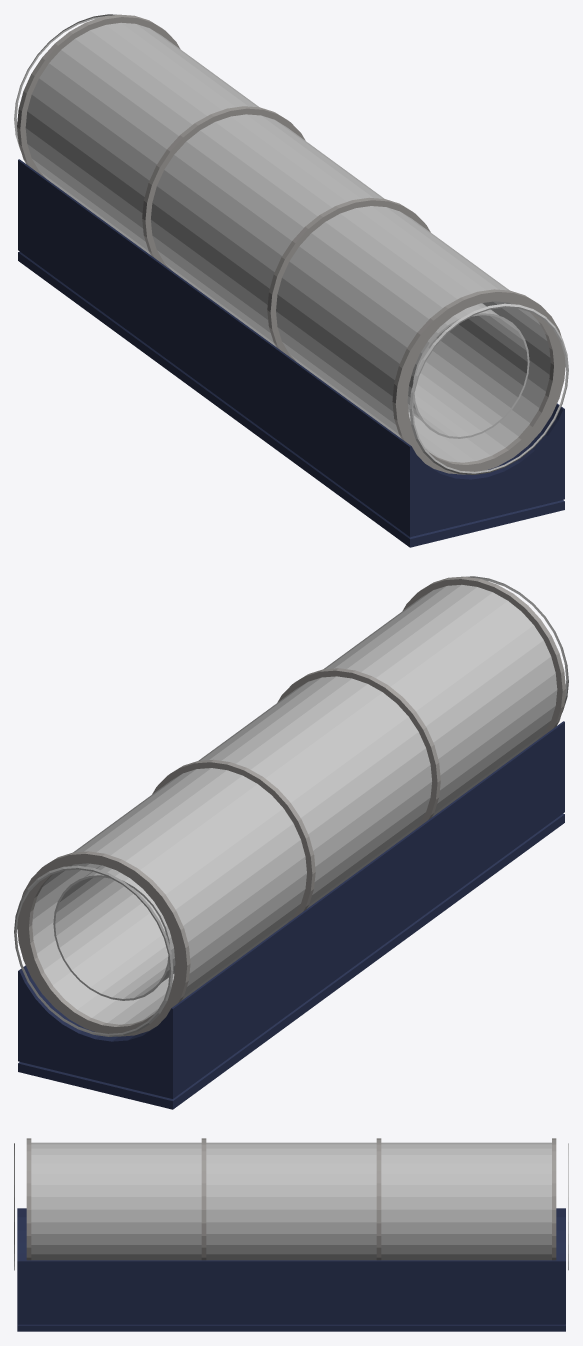
3 views of the same model, one above another, from view 1: azimuth 30°, elevation 25°; view 2: azimuth 150°, elevation 25°; view 3: azimuth 270°, elevation 25° (orthographic). The views are drawn at different scales.
Parts seen in each view (by area): view 1: Cylinder, Cube, Цилиндр.004, Цилиндр.002, Цилиндр.001, Цилиндр.003; view 2: Cylinder, Cube, Цилиндр.002, Цилиндр.004, Цилиндр.003, Цилиндр.001; view 3: Cylinder, Cube, Цилиндр.001, Цилиндр.003, Цилиндр.004, Цилиндр.002.
Part boxes in pixels (x1,y1,x2,y2): Cylinder: (14,14,568,474); Cube: (18,159,564,547); Цилиндр.004: (392,289,565,474); Цилиндр.002: (17,14,180,178); Цилиндр.001: (267,197,430,361); Цилиндр.003: (142,106,305,270); Cylinder: (14,576,568,1036); Cube: (18,721,564,1109); Цилиндр.002: (17,851,190,1036); Цилиндр.004: (402,576,565,740); Цилиндр.003: (152,759,315,923); Цилиндр.001: (277,668,440,832); Cylinder: (14,1142,568,1270); Cube: (17,1208,565,1331); Цилиндр.001: (201,1138,206,1260); Цилиндр.003: (376,1138,381,1260); Цилиндр.004: (26,1138,31,1260); Цилиндр.002: (552,1138,556,1260).
Size of what is drawn, in the model's own units: 2.51 by 3.24 by 10.15.
